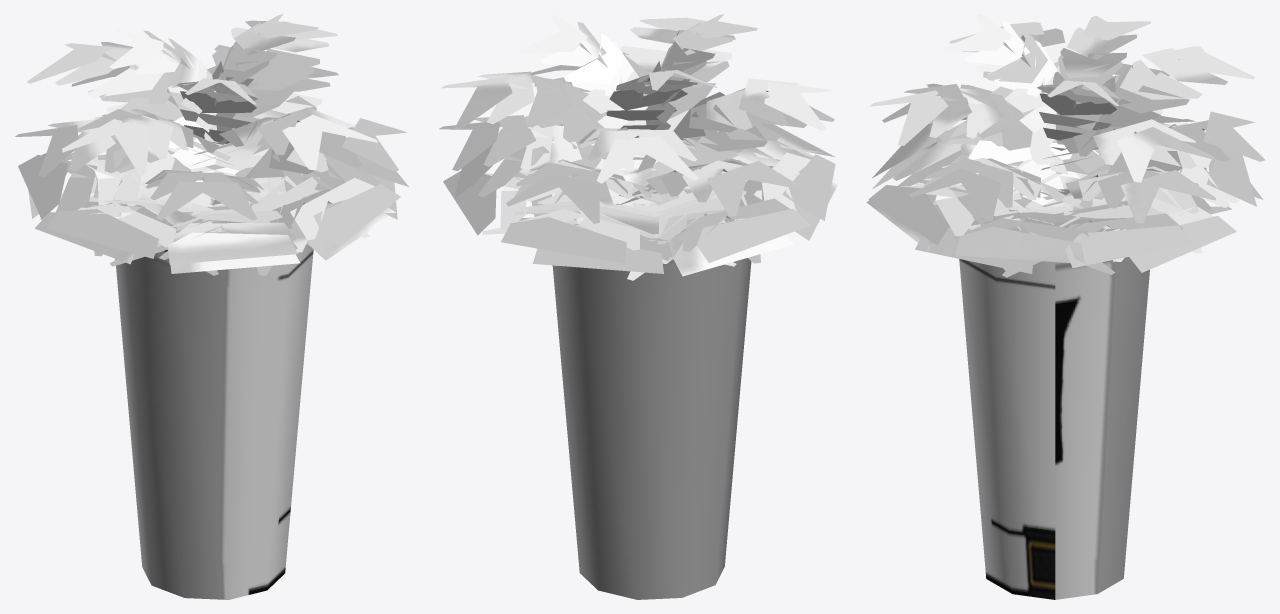
Rendered from RY_PotMedium.fbx.
3 views of the same model, side by side, from view 1: azimuth 30°, elevation 25°; view 2: azimuth 150°, elevation 25°; view 3: azimuth 270°, elevation 25° (orthographic).
Parts seen in each view (by area): view 1: PotMedium; view 2: PotMedium; view 3: PotMedium.
Boxes of the visible parts, x1,y1,x2,y2 form: PotMedium: (15,14,408,599); PotMedium: (439,14,837,599); PotMedium: (866,14,1265,599).
Size of the model in its own units: 0.5663 by 0.8258 by 0.5697.
